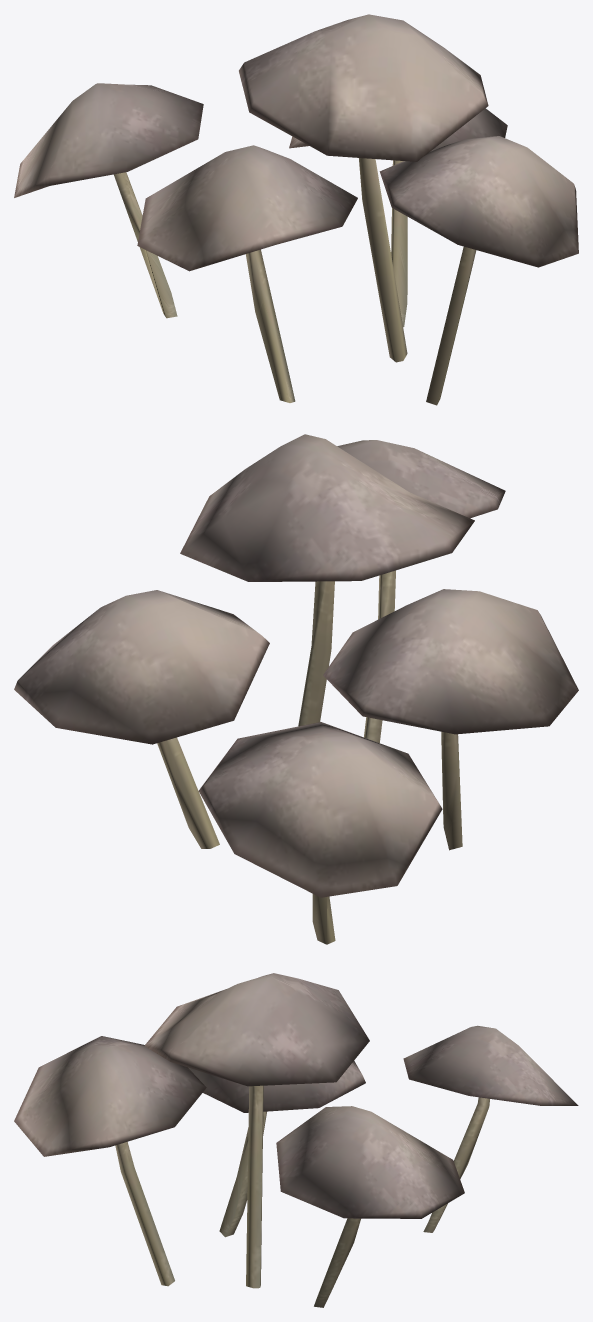
Rendered from mushroom.glb.
The picture shows the model from 3 angles, top to bottom: view 1: azimuth 30°, elevation 25°; view 2: azimuth 150°, elevation 25°; view 3: azimuth 270°, elevation 25°; orthographic projection. The views are drawn at different scales.
Parts seen in each view (by area): view 1: Mushroom_Common; view 2: Mushroom_Common; view 3: Mushroom_Common.
Boxes of the visible parts, x1,y1,x2,y2 form: Mushroom_Common: (14, 14, 578, 405); Mushroom_Common: (14, 434, 578, 944); Mushroom_Common: (14, 973, 578, 1307).
Bounding box in the file's own units: 0.5637 × 0.4635 × 0.7791.
Materials: 1 (1 with a texture image).
